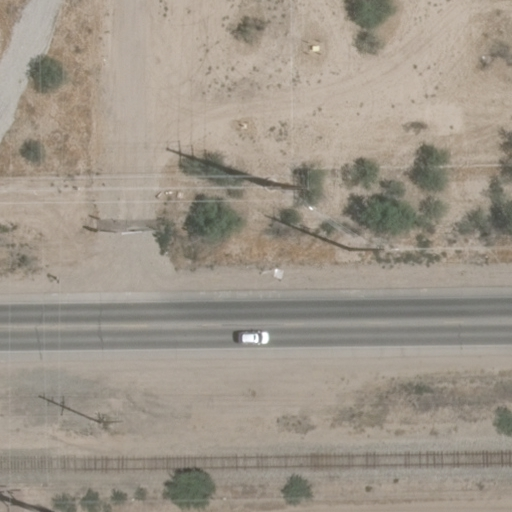DT: (349, 238, 395, 260), (270, 174, 307, 196), (98, 412, 127, 429)
